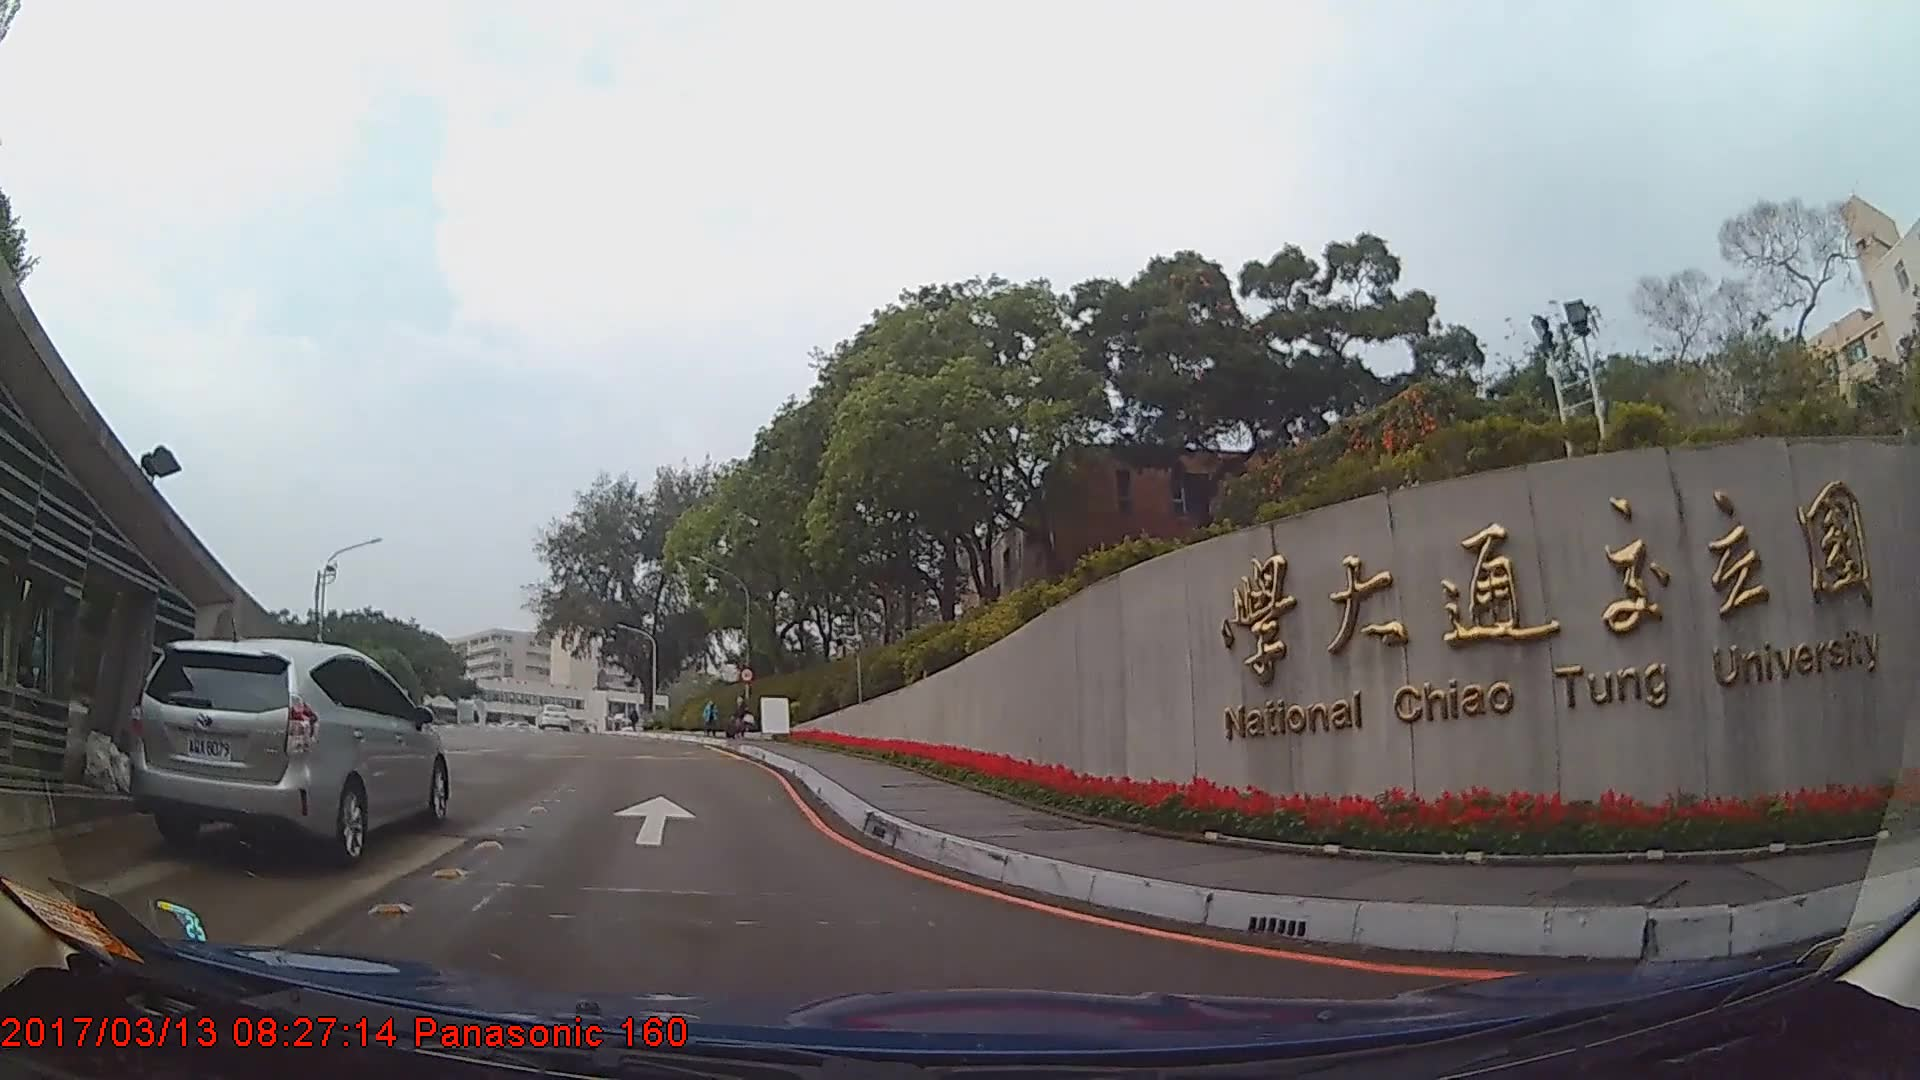vehicle: (128, 636, 448, 864), (535, 698, 571, 729)
